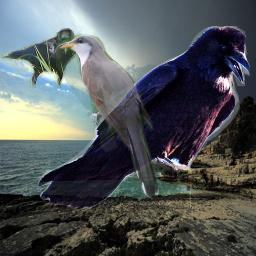Crow: (38, 26, 250, 209), (0, 28, 76, 88)
Cuckoo: (56, 32, 163, 201)
